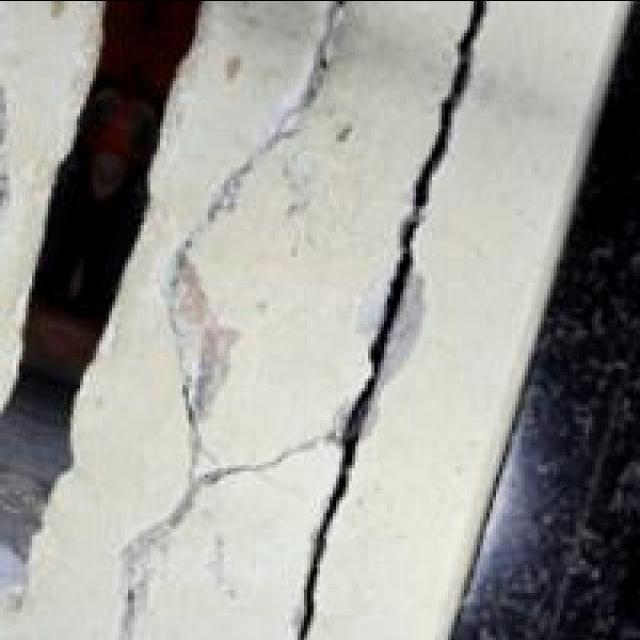SurfaceCrack: (256, 0, 500, 640)
